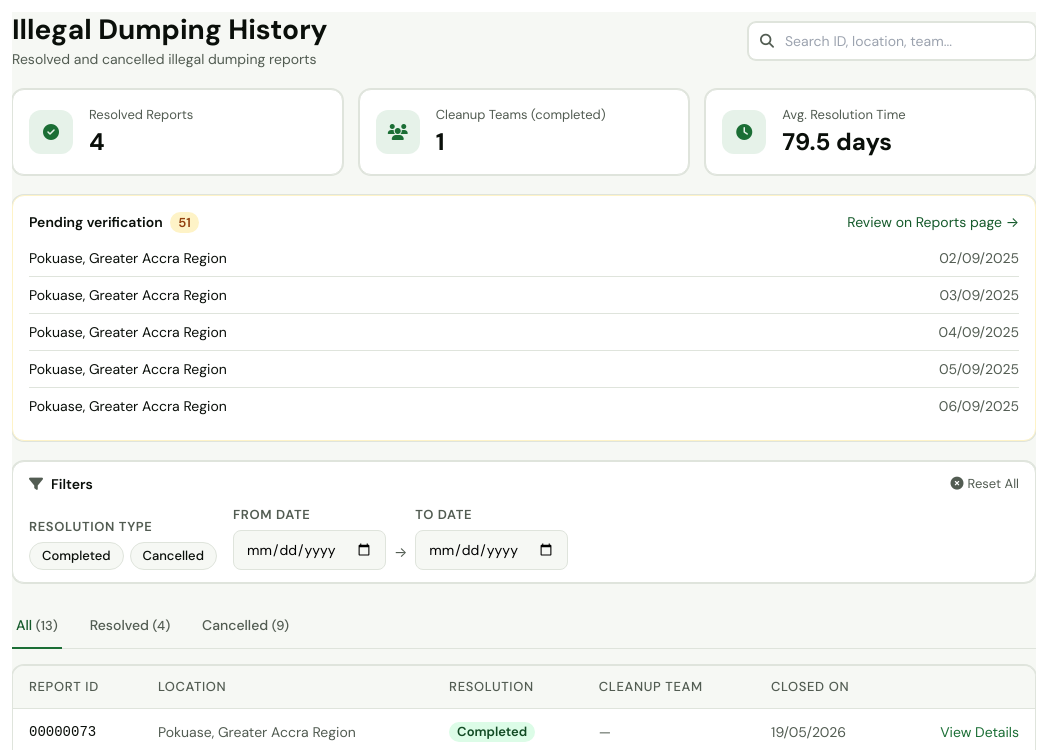
Scenario: History page › warns about an inverted date range
Check: the text with test id "pending-count" does not show "—", box [170,212,199,233]
Type "2026-05-01" into the date field labelled "From Date" at (309, 550), box [233,530,386,570]
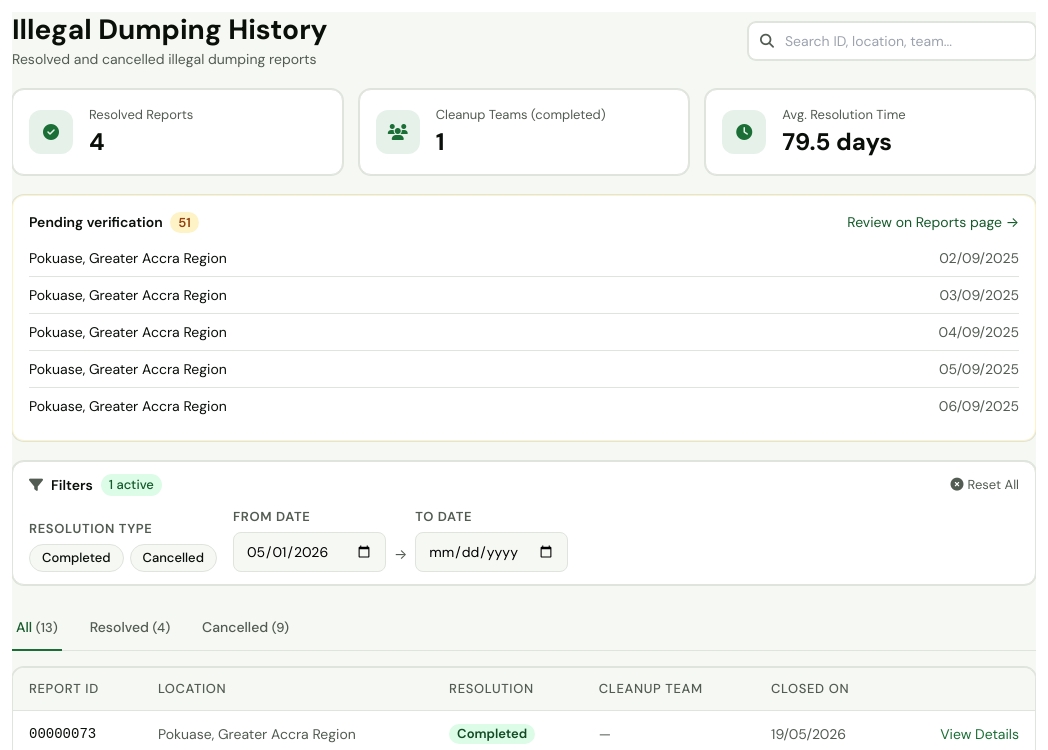
Type "2026-04-30" into the date field labelled "To Date" at (492, 552), box [415,532,568,572]
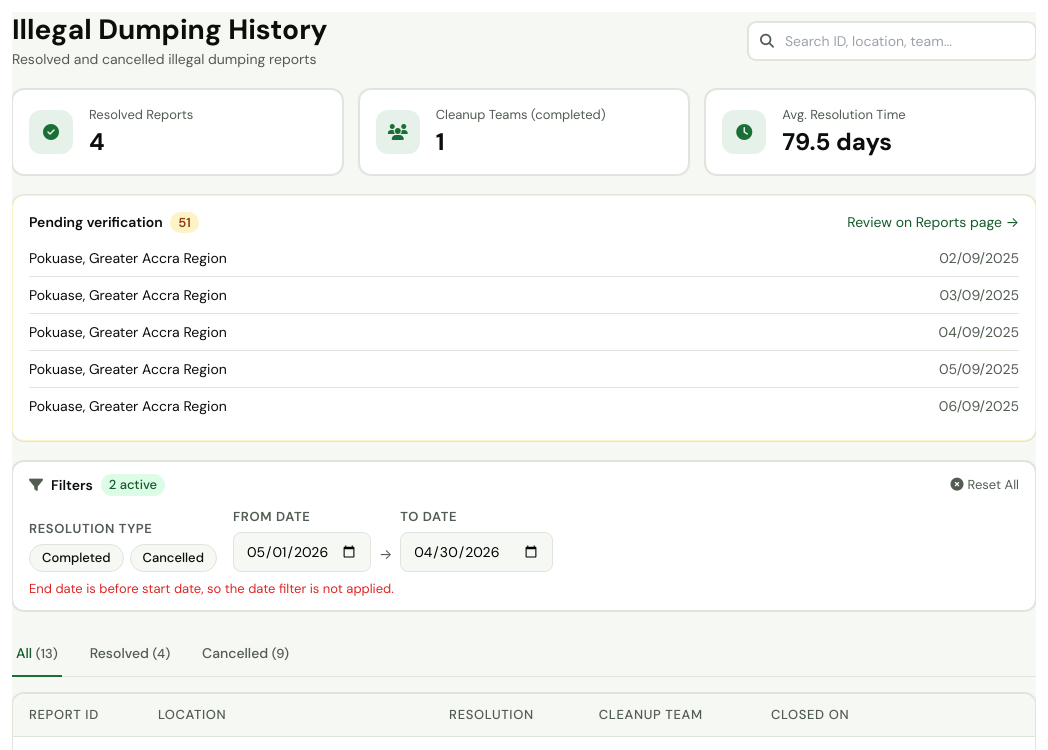
Check: the message shows "End date is before start date", box [29,580,394,597]
